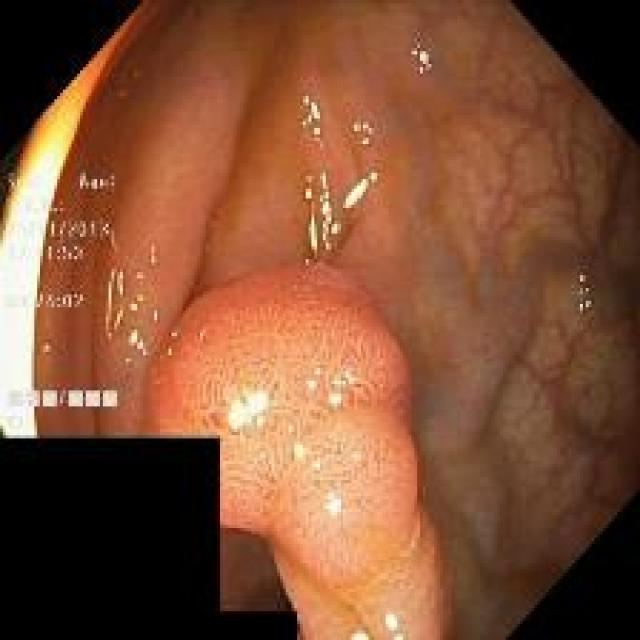Polyps: (149, 263, 446, 638)
